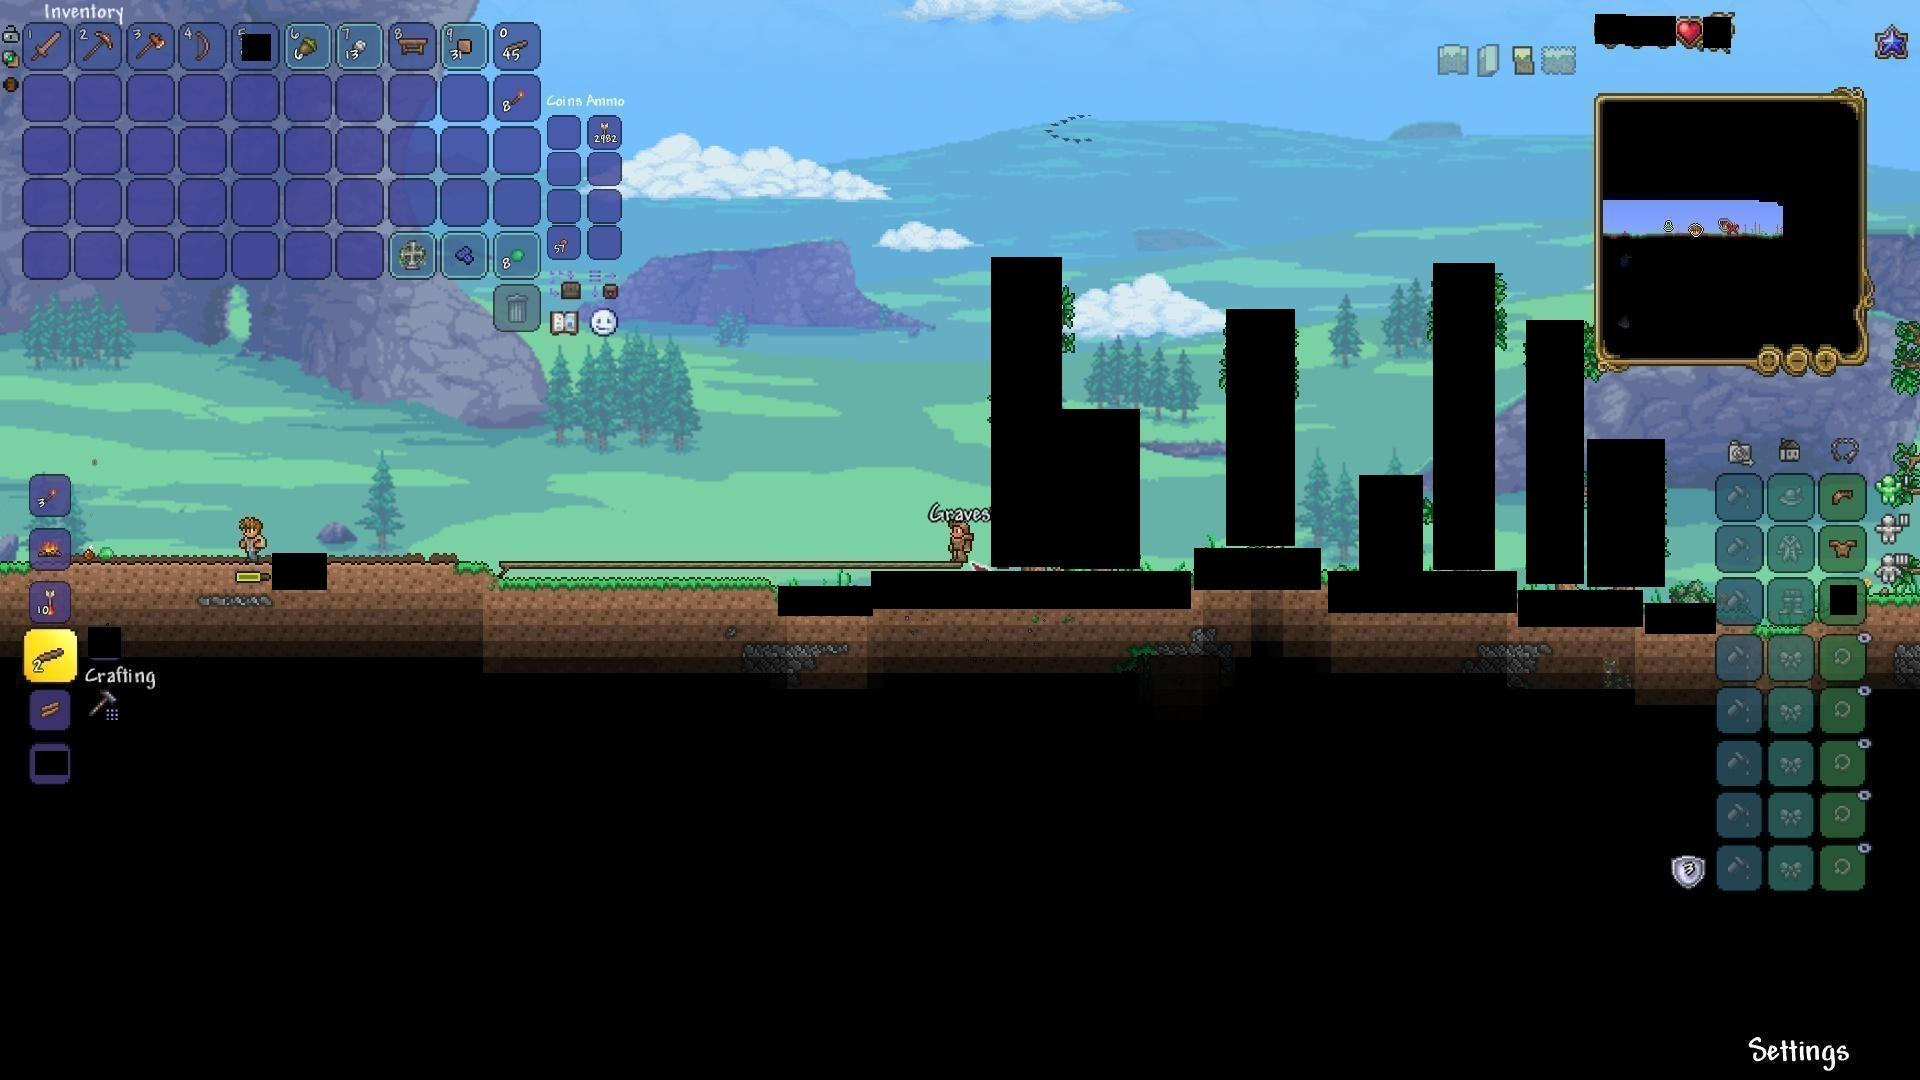breastplate: (1829, 537, 1859, 558)
dirt: (506, 567, 775, 616), (1865, 585, 1919, 626), (458, 556, 493, 592), (1, 559, 26, 604)
heart: (1675, 16, 1702, 47)
helmet: (1826, 483, 1858, 512)
wood: (36, 695, 65, 721)
workbench: (394, 33, 431, 58)
